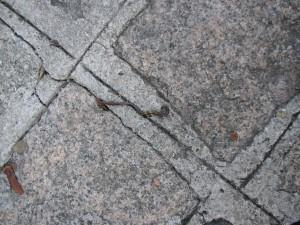earthworms: (89, 85, 185, 137)
